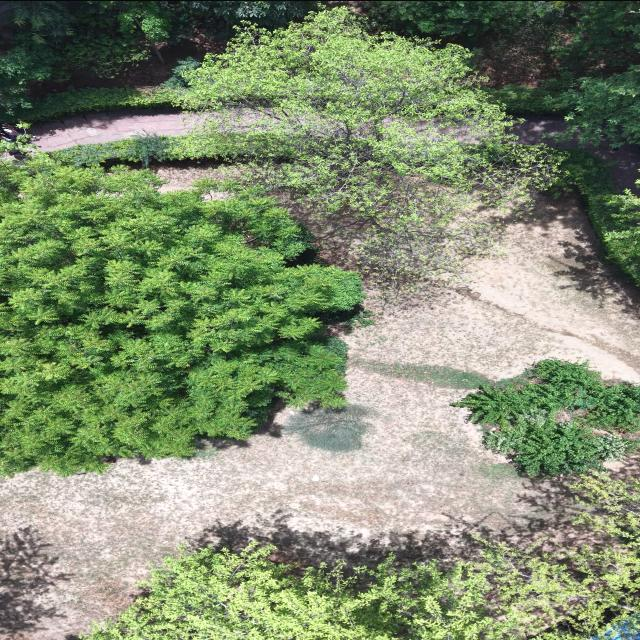DRY_AREA: (0, 195, 639, 639), (0, 370, 546, 639), (351, 193, 639, 381), (469, 194, 639, 381), (498, 202, 639, 369), (27, 107, 345, 151), (27, 107, 285, 151), (27, 107, 283, 151), (26, 107, 281, 151), (27, 107, 282, 150), (28, 108, 268, 150), (512, 116, 639, 195), (511, 116, 639, 194), (28, 108, 264, 150), (512, 116, 639, 194), (27, 108, 224, 151), (29, 108, 215, 150), (29, 109, 214, 150), (27, 108, 207, 150), (148, 159, 245, 192), (587, 143, 639, 195), (509, 115, 566, 145), (0, 1, 11, 20)
PATHWAYS: (29, 108, 215, 150)
VEGETATION_TREE: (0, 1, 639, 474), (1, 1, 639, 286), (1, 1, 639, 279), (53, 8, 559, 286), (0, 156, 362, 474), (185, 8, 559, 287), (82, 476, 639, 639), (23, 7, 485, 119), (369, 1, 639, 146), (83, 546, 496, 639), (368, 1, 639, 142), (0, 1, 310, 119), (0, 1, 313, 112), (453, 359, 639, 475), (493, 1, 639, 143), (363, 1, 573, 87), (490, 65, 639, 143), (554, 149, 639, 284), (484, 414, 636, 475), (552, 65, 639, 142), (367, 1, 564, 34), (555, 1, 639, 75), (357, 359, 525, 388), (284, 404, 372, 451), (602, 189, 639, 280), (10, 1, 71, 41), (594, 619, 637, 639)
